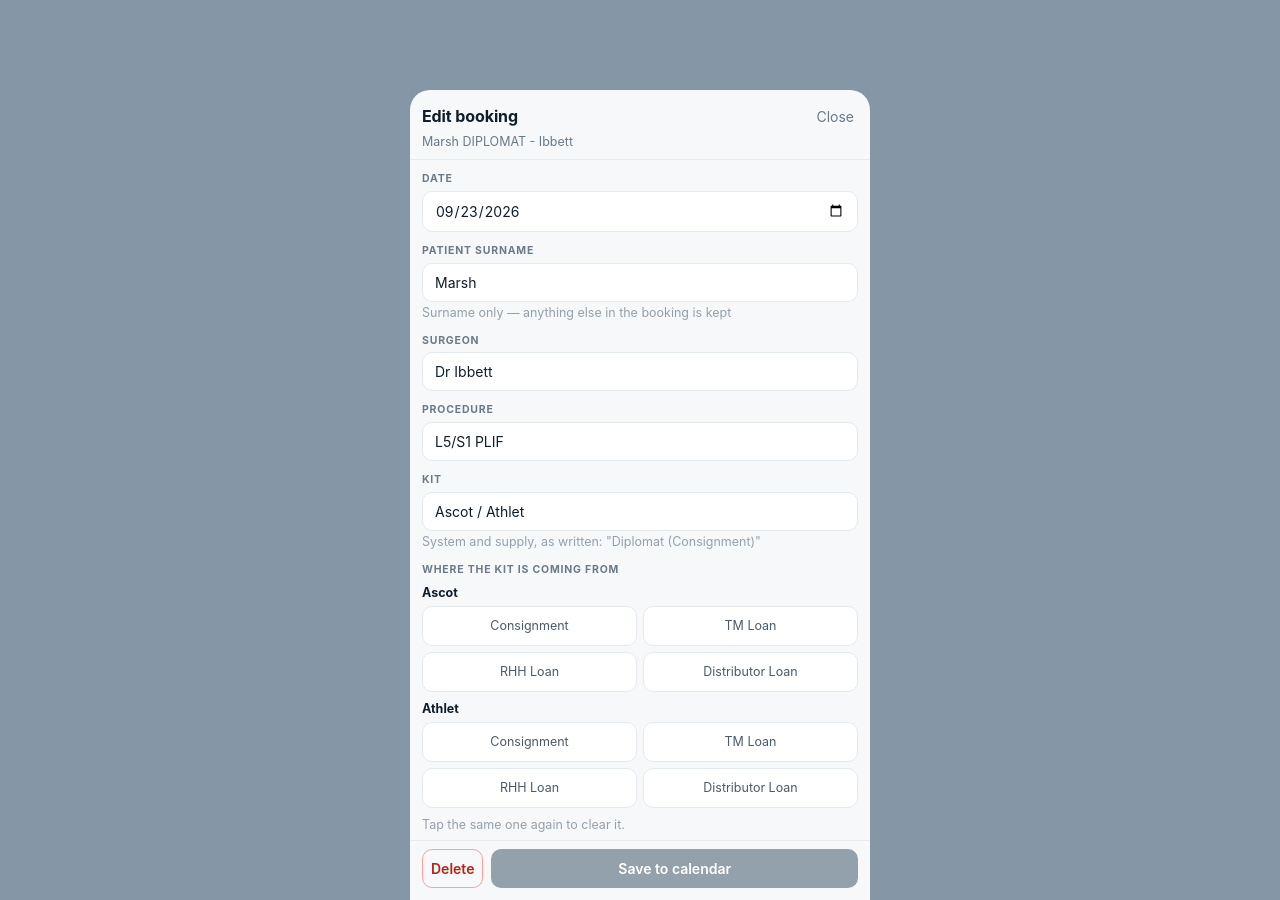
Scenario: saying where each kit is coming from › writes the answer into the kit field, not beside it
Check: the field showing "L5/S1 PLIF" is shown, box [422,422,858,461]
Click the button with aria-label "Athlet: RHH Loan" at (530, 788), box [422,768,637,808]
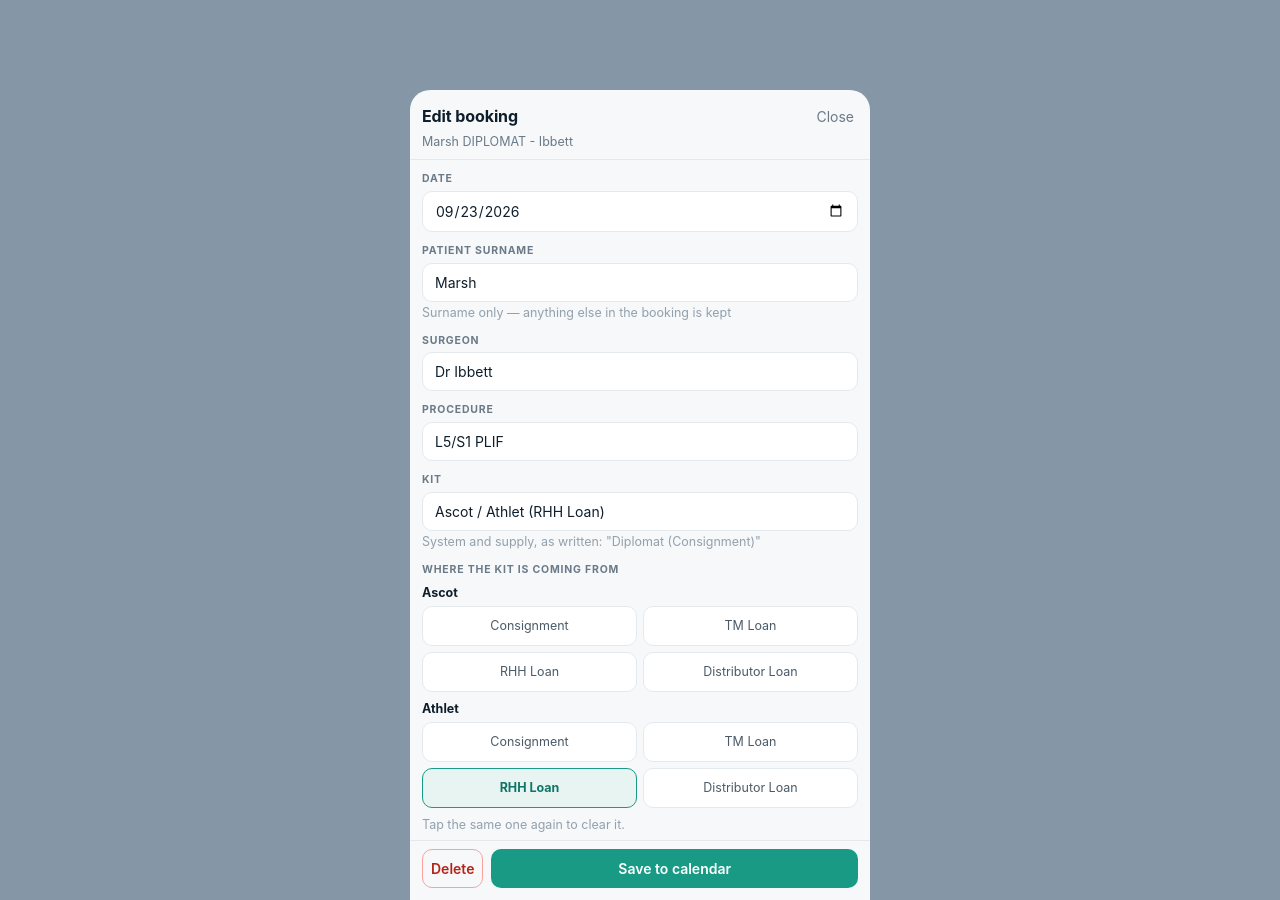
Check: the field showing "Ascot / Athlet (RHH Loan)" is shown, box [422,492,858,531]
